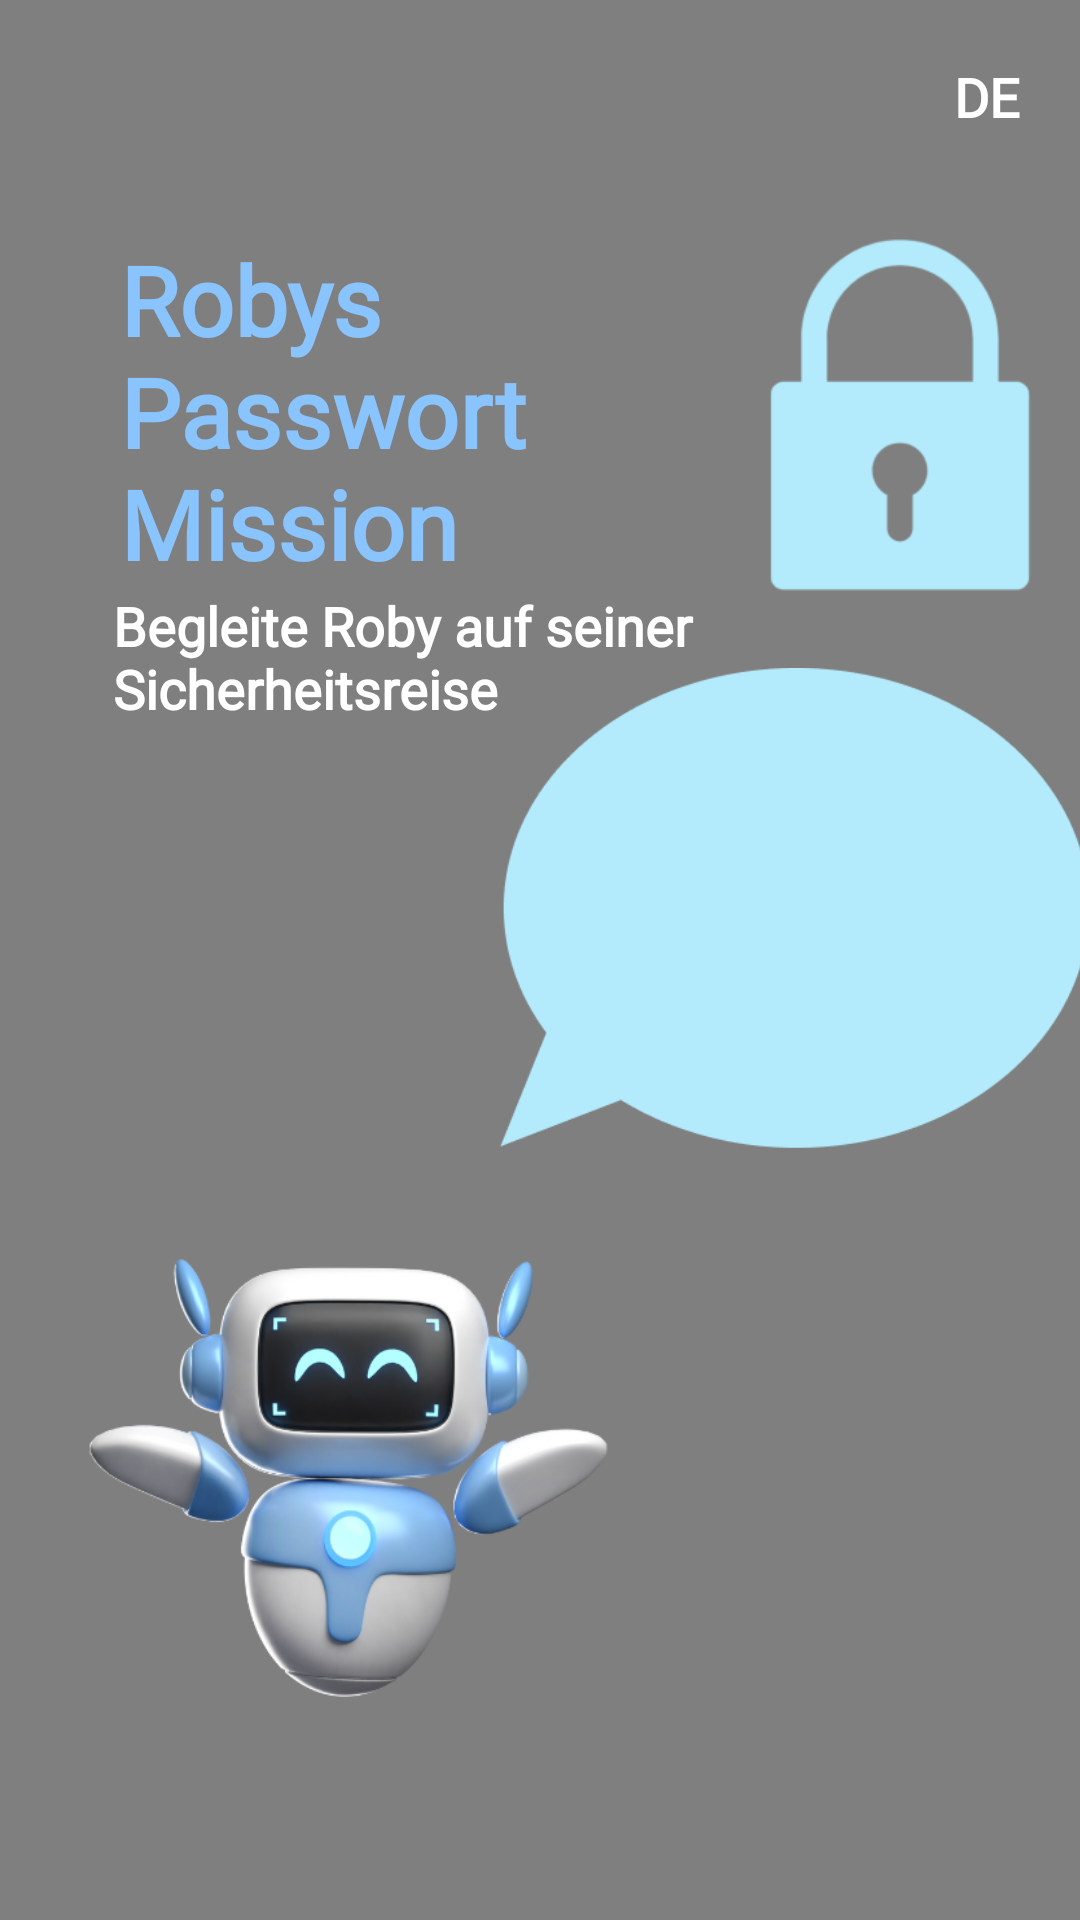

Locate icon controls on the screen. Image size 1080px x 1920px, boxes as (left=x1, top=y1, right=x2, bottom=y2).
Lock Icon: (left=770, top=239, right=1030, bottom=591)
